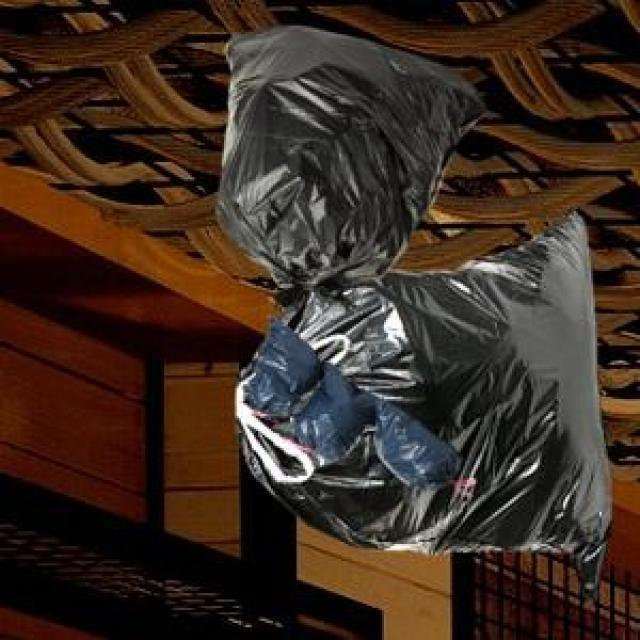waste: (218, 26, 610, 558)
